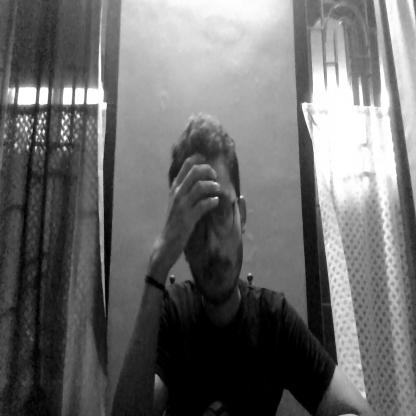Normal: (162, 112, 253, 304)
